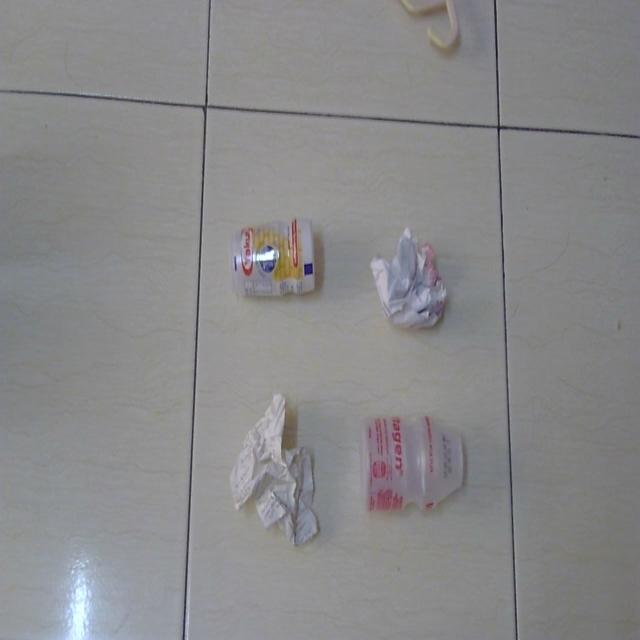paperrotation: (222, 388, 320, 543), (364, 220, 452, 336)
plastic_laydown_0rotation: (356, 398, 470, 528), (223, 217, 328, 301)
